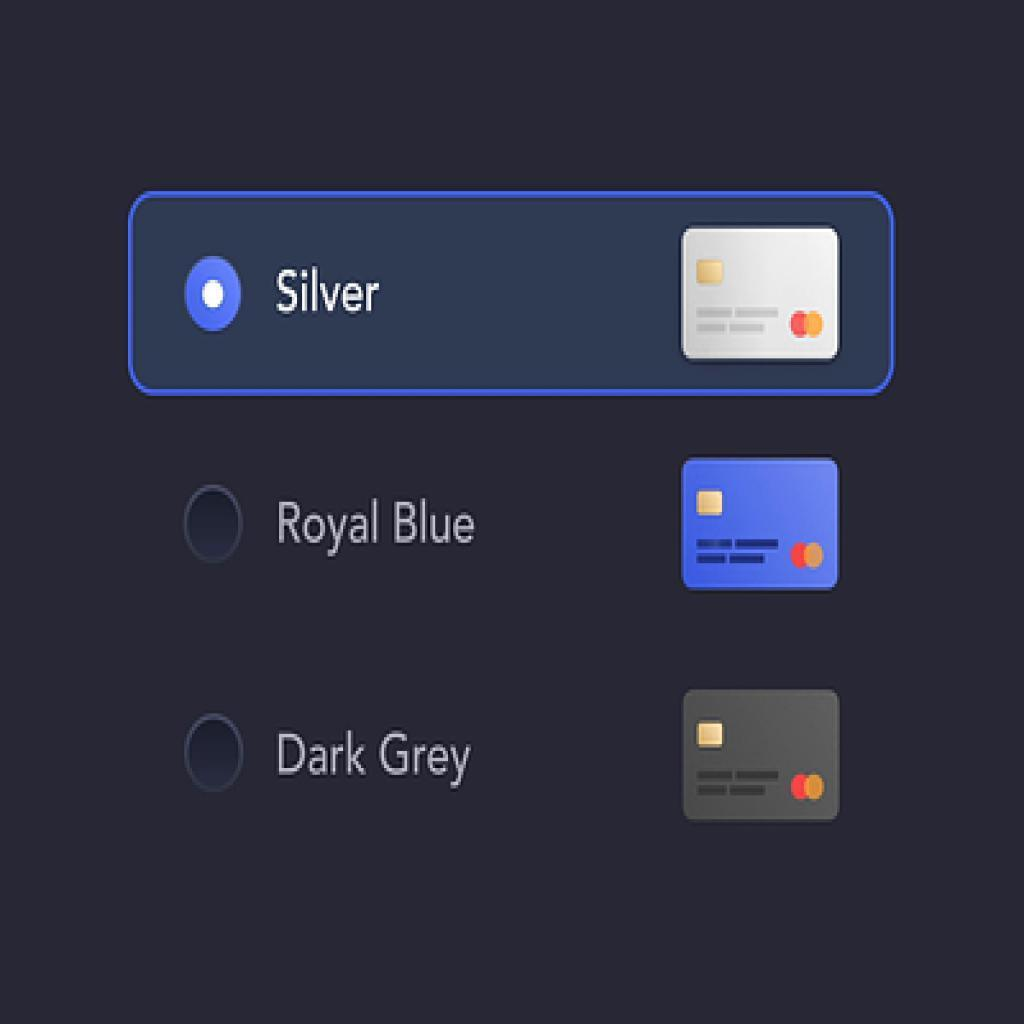label: (281, 721, 473, 796), (271, 494, 479, 560), (276, 266, 381, 322)
radio: (180, 252, 247, 338), (184, 481, 245, 573), (182, 716, 248, 789)
